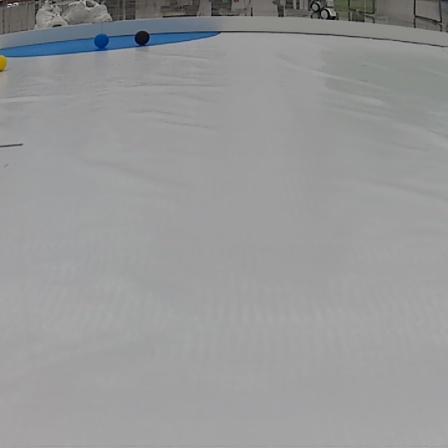black: (133, 31, 151, 41)
blue: (95, 33, 107, 48)
blue_base: (0, 27, 224, 56)
yellow: (0, 56, 8, 69)
